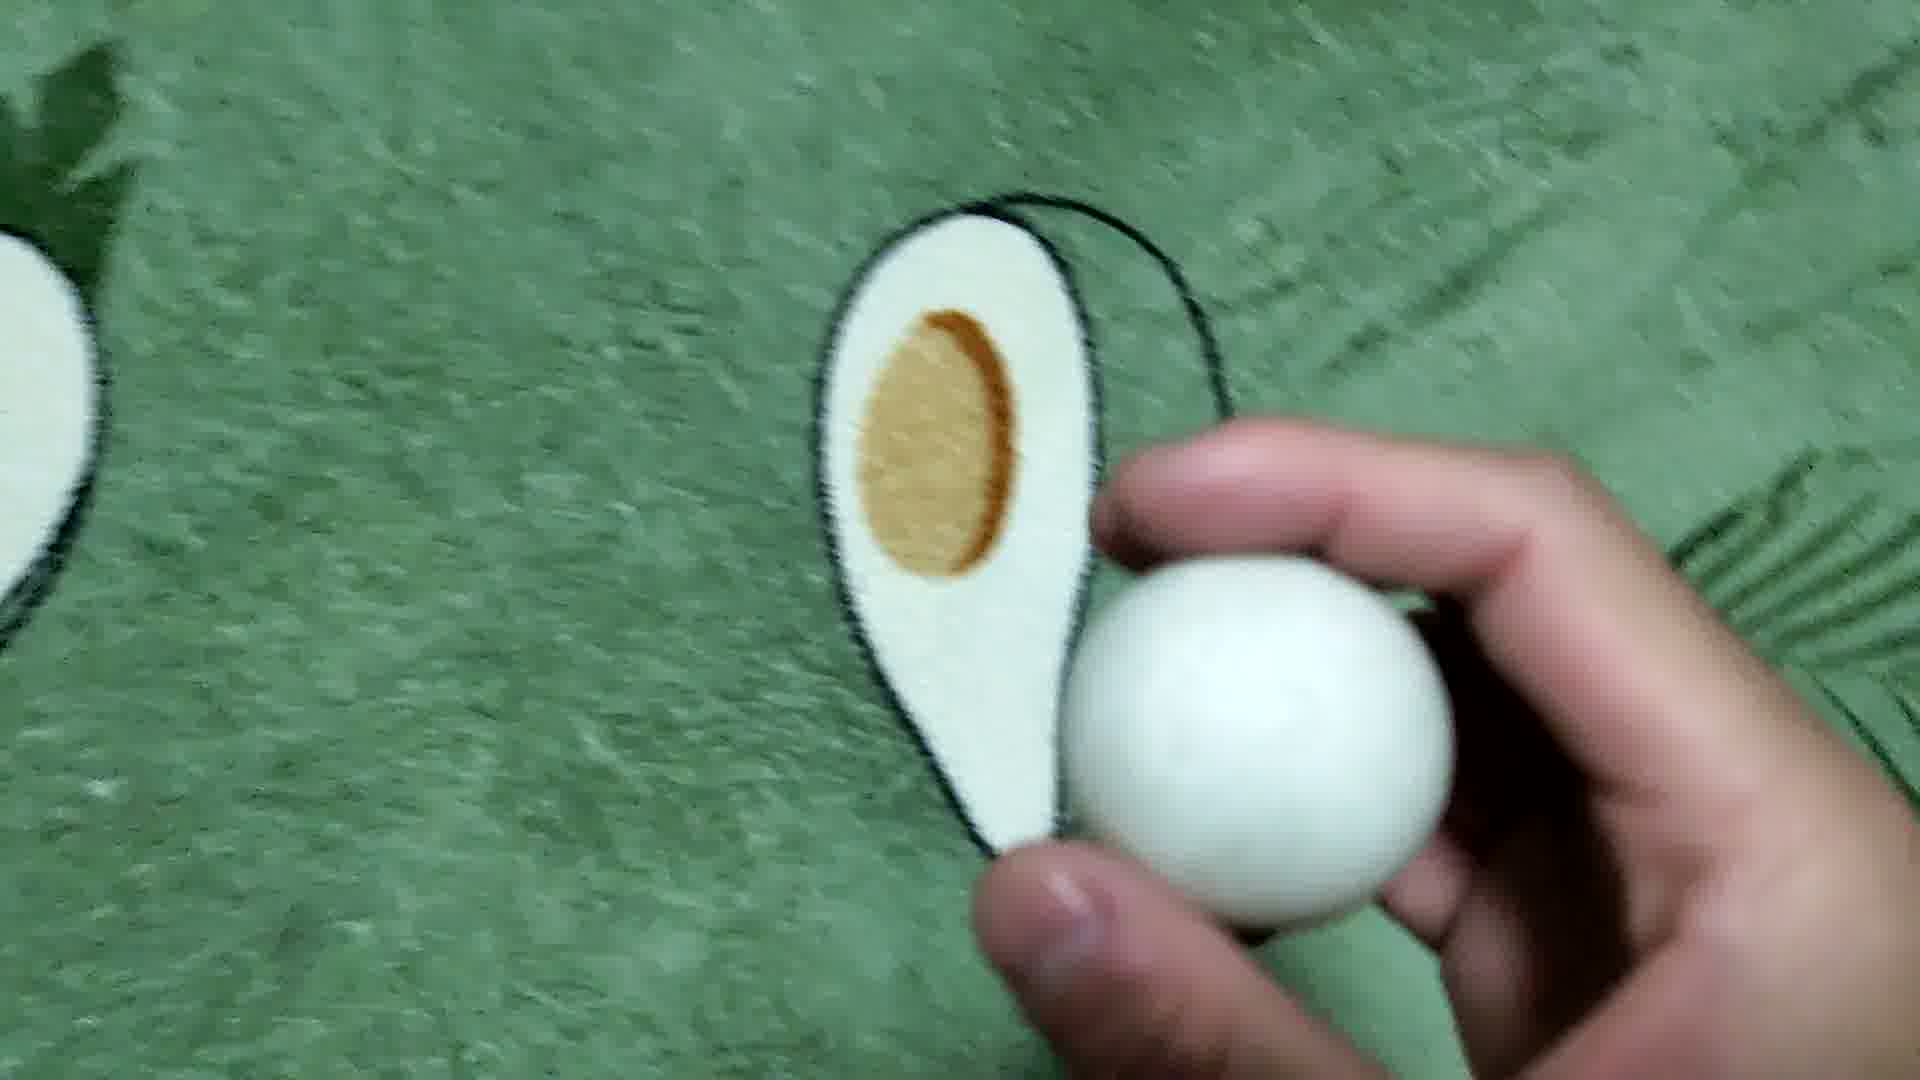Ball: (1064, 556, 1451, 928)
